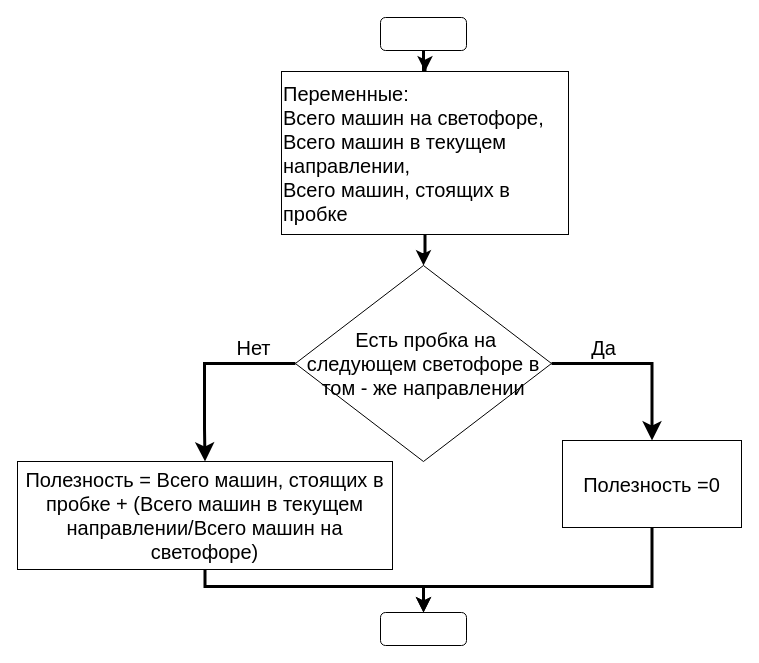
This 759x663 diagram has some shape labels left out. Here are the shapes that lost their labels. From the top down, the centre of each, then its label:
point 423,33: Начало
point 423,629: Конец
